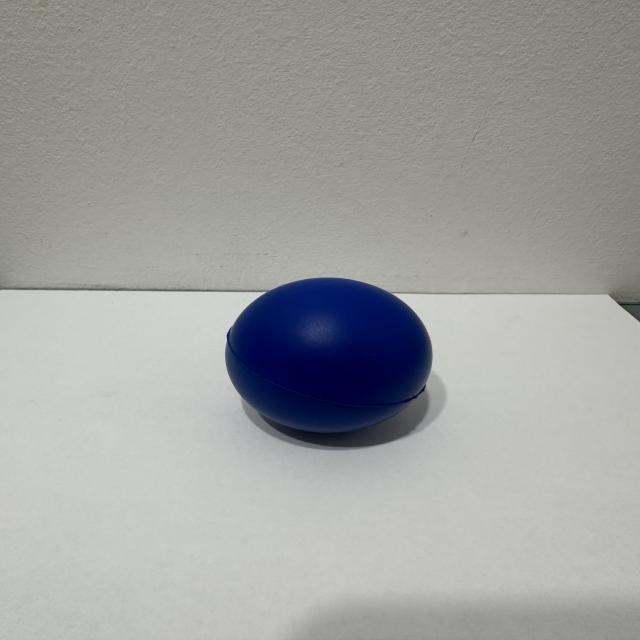blue_ball: (217, 272, 475, 460)
